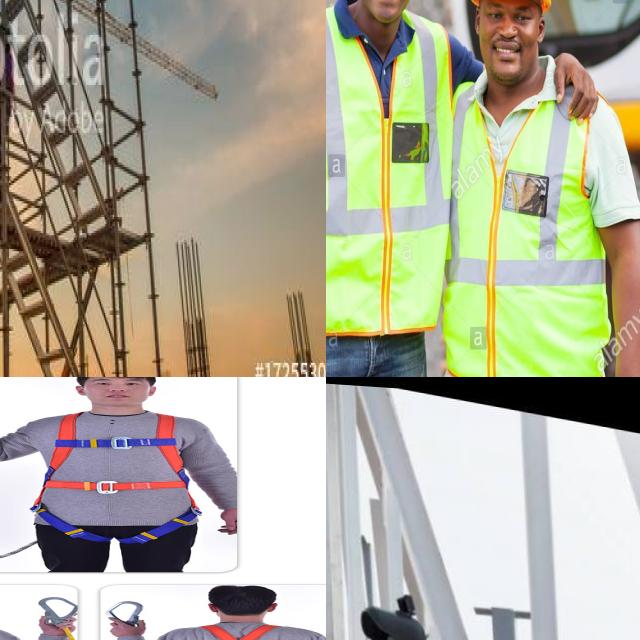Harness: (22, 408, 209, 544)
No_Ear-Protection: (535, 15, 547, 45), (474, 4, 482, 36)
No_Glasses: (471, 0, 546, 29)
face_nomask: (472, 0, 539, 81), (356, 0, 411, 23)
hand_noglove: (556, 40, 604, 124)
person: (441, 0, 636, 377), (326, 0, 453, 377)
vest: (438, 70, 596, 377), (326, 8, 443, 328)
